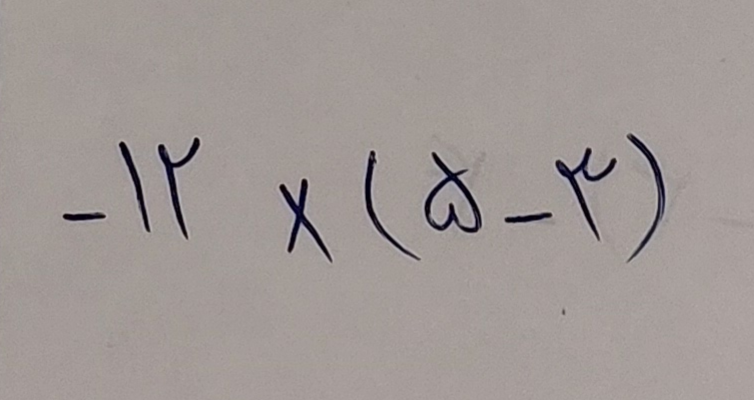character: (555, 148, 620, 242), (365, 150, 419, 259), (626, 131, 667, 264), (278, 177, 338, 262), (425, 152, 483, 234), (156, 136, 201, 239), (116, 140, 153, 233), (504, 211, 554, 226), (62, 211, 108, 223)
